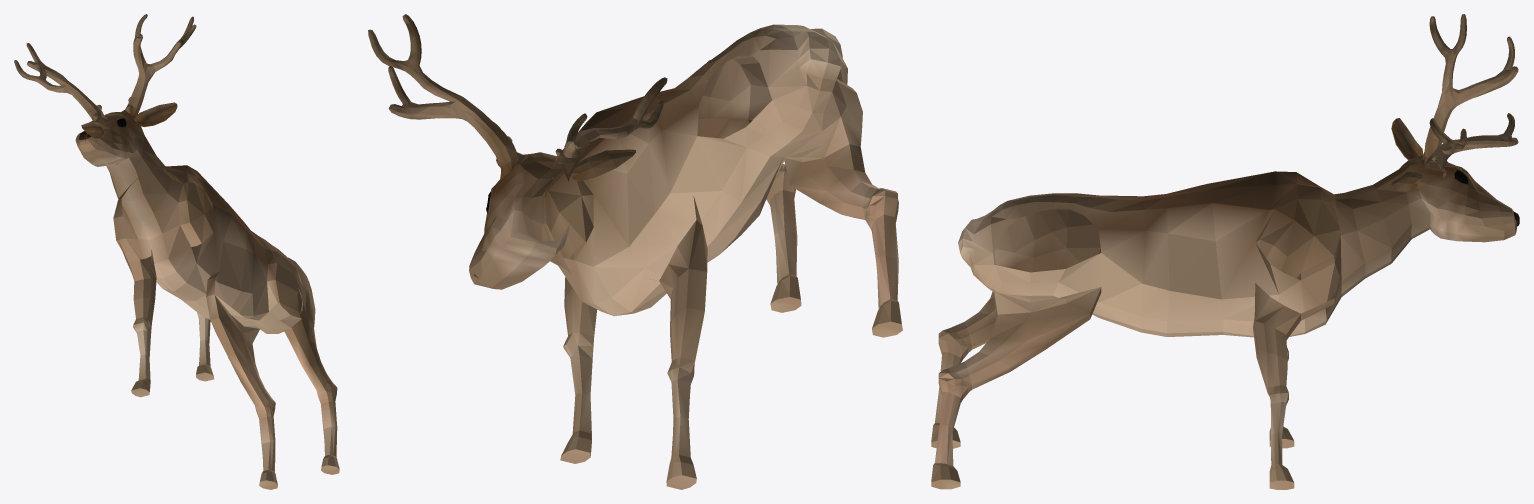
Rendered from asset.gltf.
3 renders of one model, left to right at view 1: azimuth 30°, elevation 25°; view 2: azimuth 150°, elevation 25°; view 3: azimuth 270°, elevation 25°, orthographic. The views are drawn at different scales.
Visible parts, largest first — view 1: group_ME_Deer_Stag; view 2: group_ME_Deer_Stag; view 3: group_ME_Deer_Stag.
Part boxes in pixels (x1=…): group_ME_Deer_Stag: x1=14, y1=14, x2=339, y2=489; group_ME_Deer_Stag: x1=368, y1=14, x2=902, y2=489; group_ME_Deer_Stag: x1=931, y1=14, x2=1519, y2=489.
Bounding box in the file's own units: 1.17 × 1.87 × 2.51.
